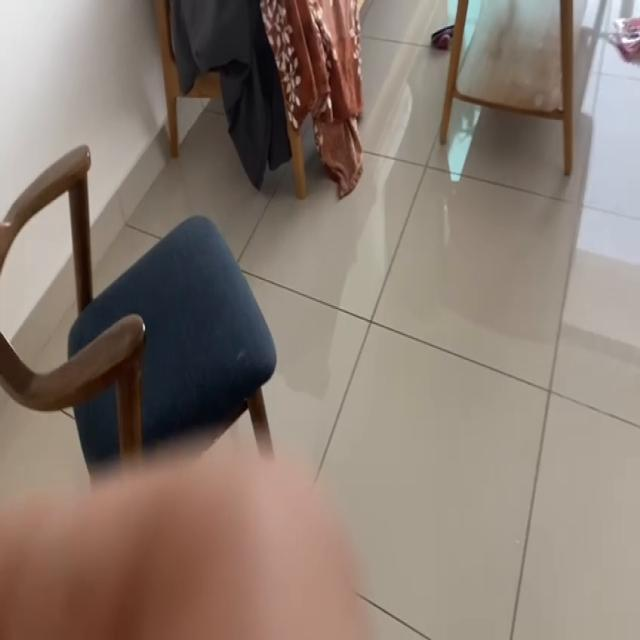Chair: (0, 135, 303, 452)
